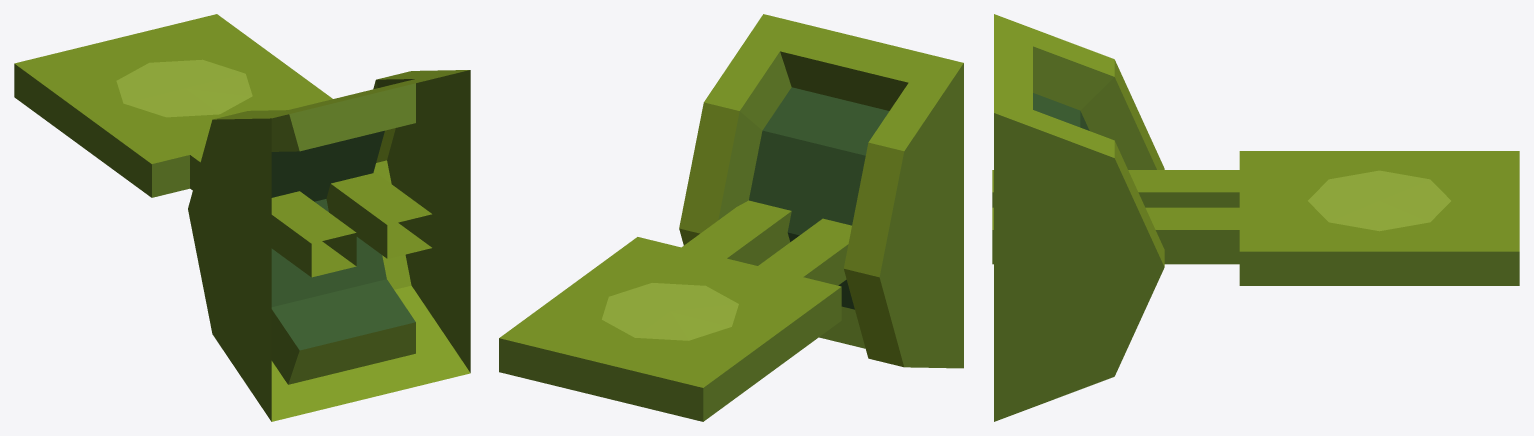
Rendered from lever.fbx.
The picture shows the model from 3 angles, left to right: view 1: azimuth 30°, elevation 25°; view 2: azimuth 150°, elevation 25°; view 3: azimuth 270°, elevation 25°; orthographic projection.
Parts seen in each view (by area): view 1: Mesh_LeverBase, Mesh_Lever; view 2: Mesh_LeverBase, Mesh_Lever; view 3: Mesh_LeverBase, Mesh_Lever.
Boxes of the visible parts, <box> form: Mesh_LeverBase: <box>188,70,470,421</box>; Mesh_Lever: <box>14,14,432,277</box>; Mesh_LeverBase: <box>679,14,963,368</box>; Mesh_Lever: <box>499,200,851,421</box>; Mesh_LeverBase: <box>994,14,1164,421</box>; Mesh_Lever: <box>992,151,1519,285</box>.
Bounding box in the file's own units: 1.4 × 3.09 × 2.
